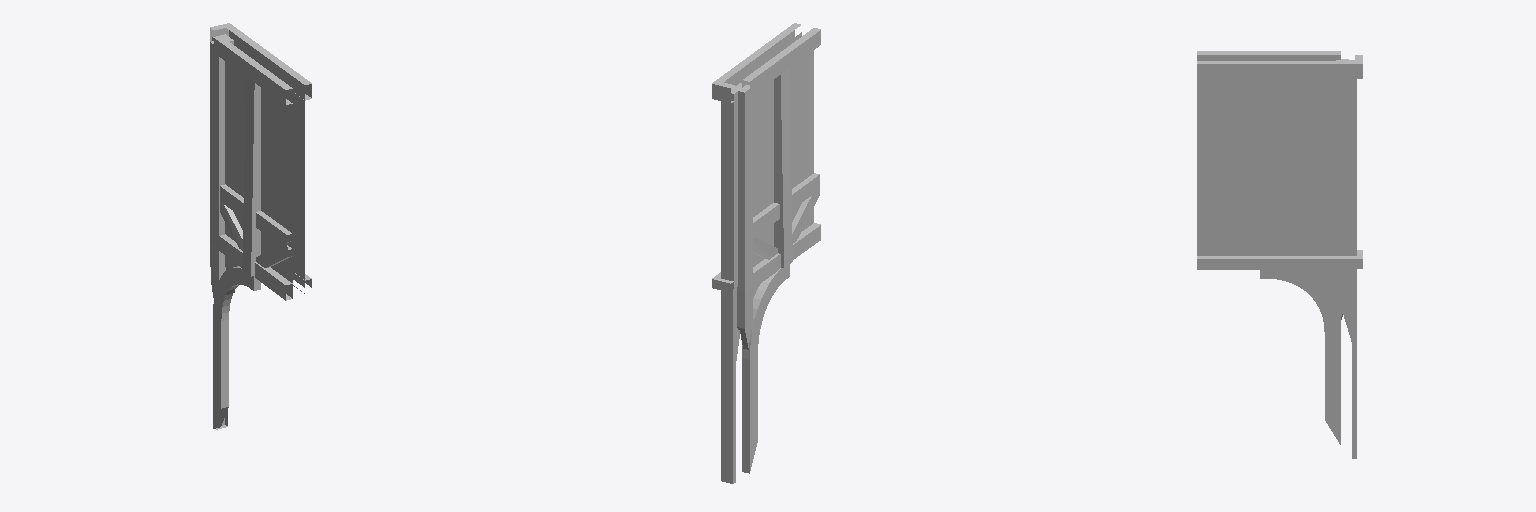
File: Overhang_Side_Plaster_Long_L.obj
3 views of the same model, side by side, from view 1: azimuth 30°, elevation 25°; view 2: azimuth 150°, elevation 25°; view 3: azimuth 270°, elevation 25° (orthographic).
Visible parts, largest first — view 1: Overhang_Side_Plaster_Long_L; view 2: Overhang_Side_Plaster_Long_L; view 3: Overhang_Side_Plaster_Long_L.
Boxes of the visible parts, x1=… form: Overhang_Side_Plaster_Long_L: x1=210, y1=23, x2=311, y2=429; Overhang_Side_Plaster_Long_L: x1=712, y1=23, x2=820, y2=483; Overhang_Side_Plaster_Long_L: x1=1197, y1=51, x2=1362, y2=458.
Bounding box in the file's own units: 0.4793 × 6.12 × 2.31.